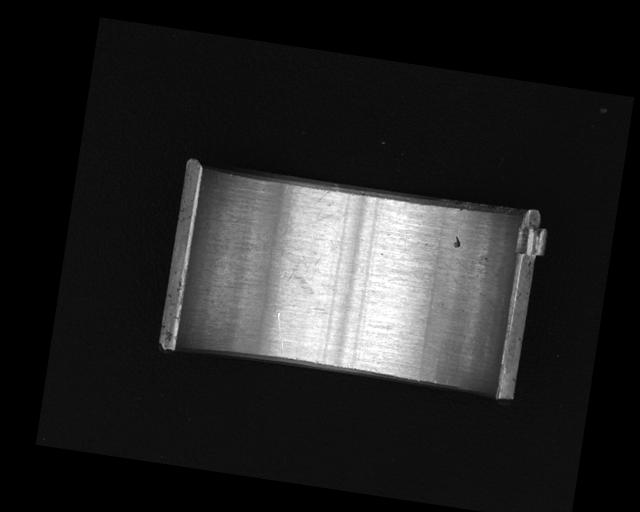blot: (269, 243, 322, 297)
bruise: (451, 234, 463, 249)
nick: (270, 312, 290, 353)
